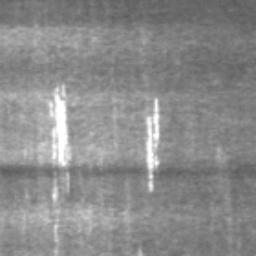White rust: (50, 81, 73, 168), (145, 98, 160, 192), (54, 216, 59, 252), (53, 170, 58, 200), (66, 170, 69, 194)
